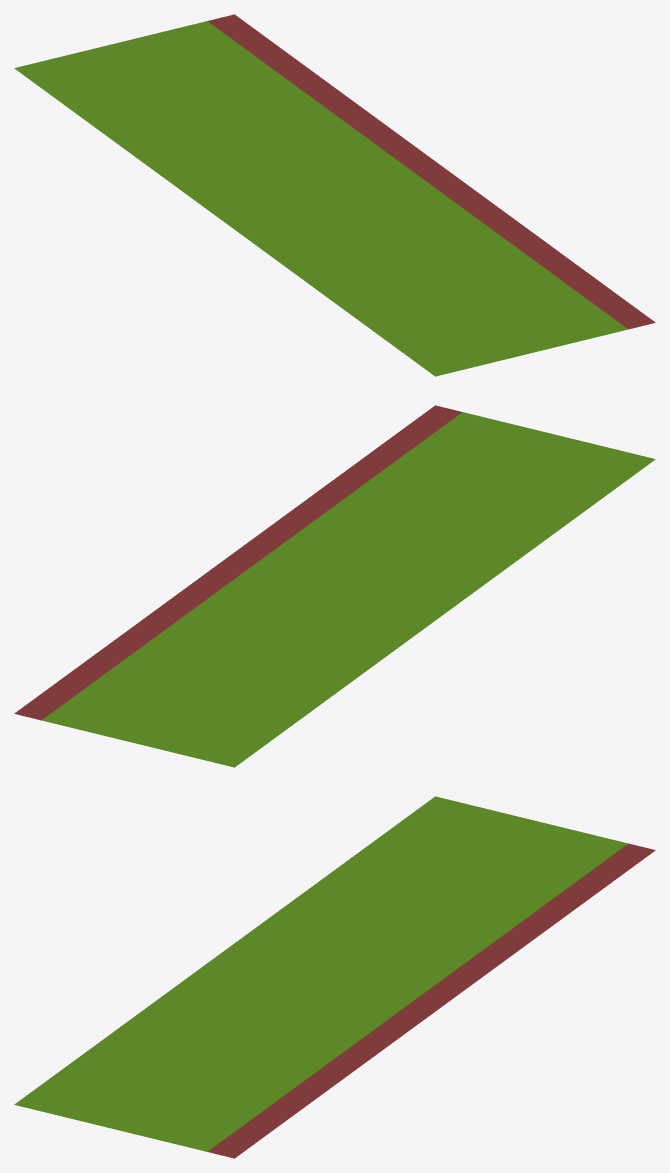
Rendered from APRoadGrassStraightD.fbx.
3 views of the same model, one above another, from view 1: azimuth 30°, elevation 25°; view 2: azimuth 150°, elevation 25°; view 3: azimuth 330°, elevation 25° (orthographic).
Visible parts, largest first — view 1: APRoadGrassStraightD; view 2: APRoadGrassStraightD; view 3: APRoadGrassStraightD.
Part boxes in pixels (<box>): APRoadGrassStraightD: <box>14,14,655,376</box>; APRoadGrassStraightD: <box>14,405,655,767</box>; APRoadGrassStraightD: <box>14,796,655,1158</box>.
Bounding box in the file's own units: 1300 × 2.15e-13 × 4300.
Materials: 1 (1 with a texture image).
